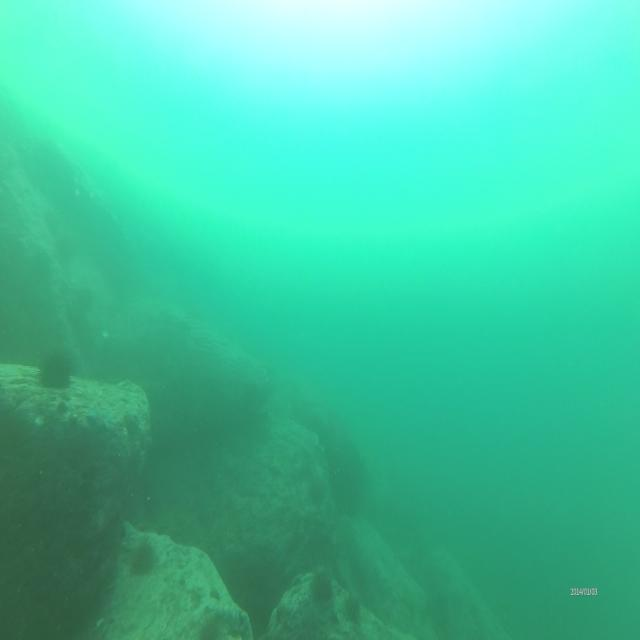echinus: (34, 343, 74, 391), (130, 537, 156, 572), (339, 591, 363, 623), (311, 568, 333, 601)
starfish: (85, 401, 110, 436)
